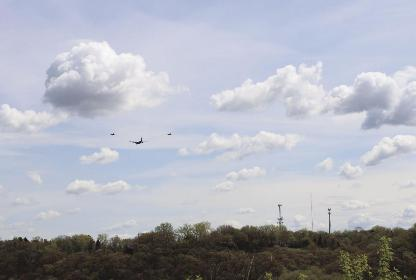Be200: (128, 137, 147, 143)
F14: (109, 132, 115, 135), (166, 132, 172, 135)
